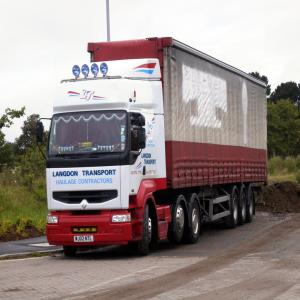Vehicle-registration-plate: (74, 235, 95, 244)
